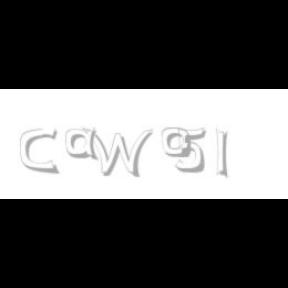5: (176, 128, 206, 174)
C: (20, 128, 57, 174)
W: (81, 128, 153, 178)
a: (66, 128, 102, 160)
l: (216, 128, 232, 180)
o: (162, 128, 190, 158)
